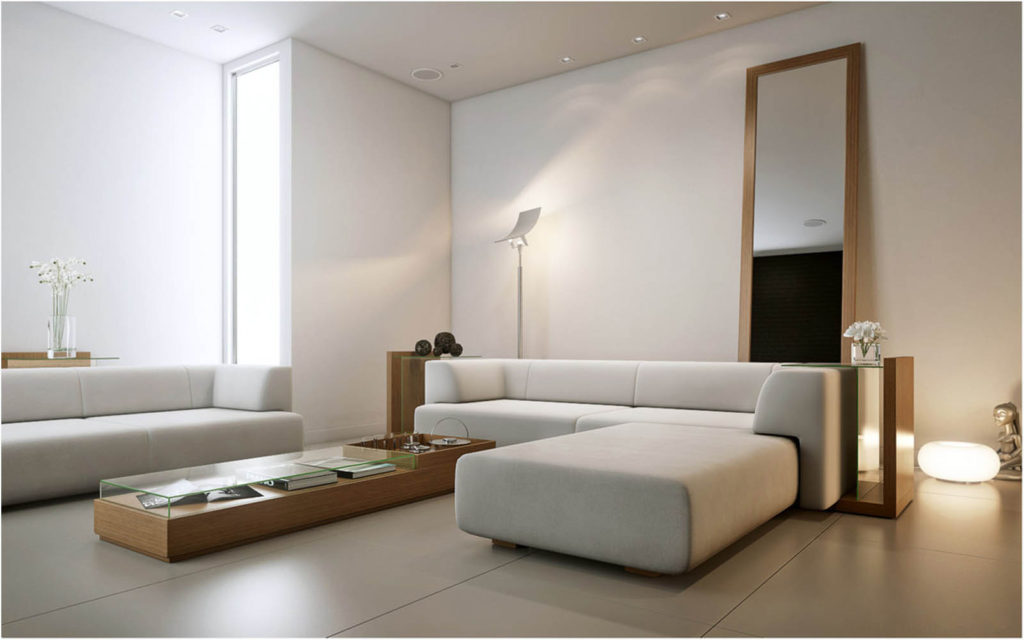floor lamp: (491, 202, 548, 360)
flower vase: (29, 252, 101, 360), (840, 314, 890, 366)
sofa: (412, 356, 859, 584), (3, 362, 305, 510)
table: (91, 430, 495, 566)
